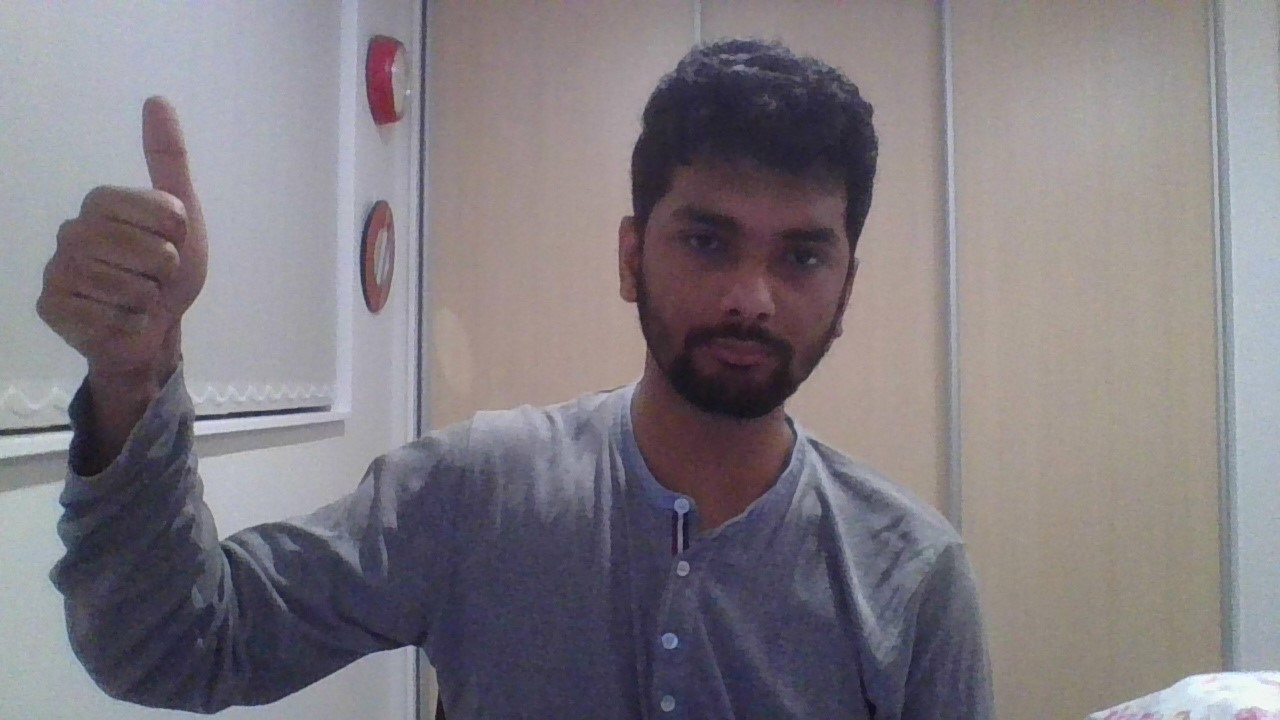good: (35, 96, 210, 372)
